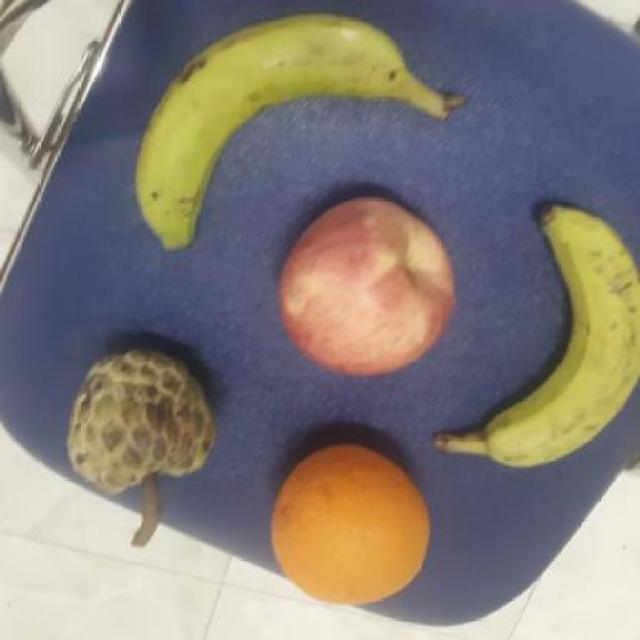apple: (273, 190, 475, 382)
banana: (134, 10, 468, 252), (428, 198, 640, 474)
oren: (260, 432, 440, 610)
sugar apple: (52, 349, 239, 503)
